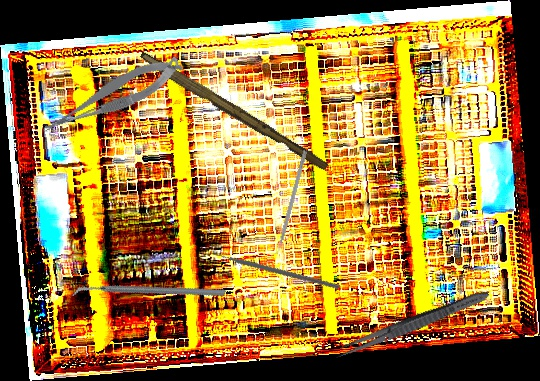Chopper: (70, 231, 227, 355), (208, 211, 341, 321), (268, 148, 308, 260)
Dressing Forceps: (332, 286, 492, 363)
Micro Scissor: (34, 50, 190, 140)
Scalpel Handle: (135, 50, 332, 173)
